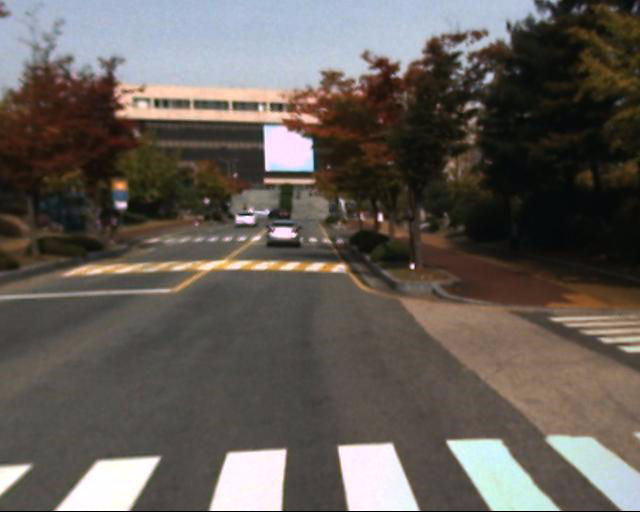person: (504, 209, 530, 268)
